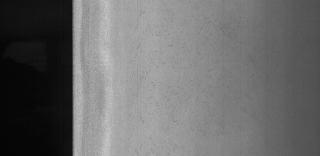silk spot: (114, 14, 236, 140)
